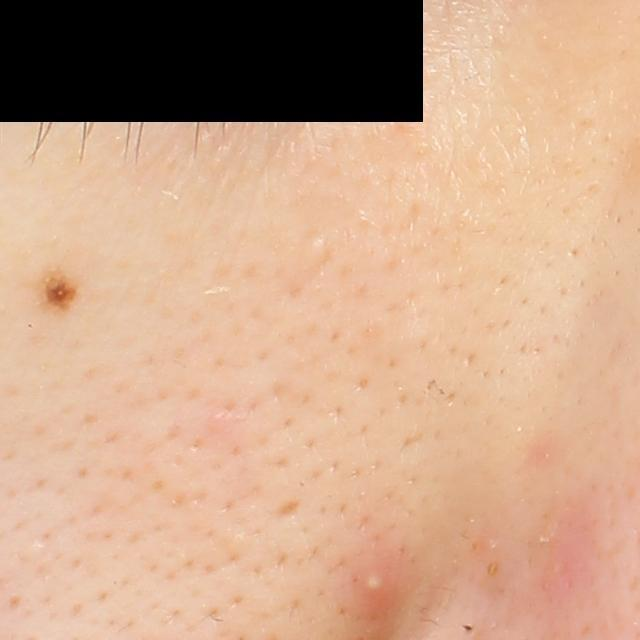atrophic_scar: (264, 496, 307, 523)
nevus: (35, 266, 91, 326)
pustule: (352, 553, 404, 604)
